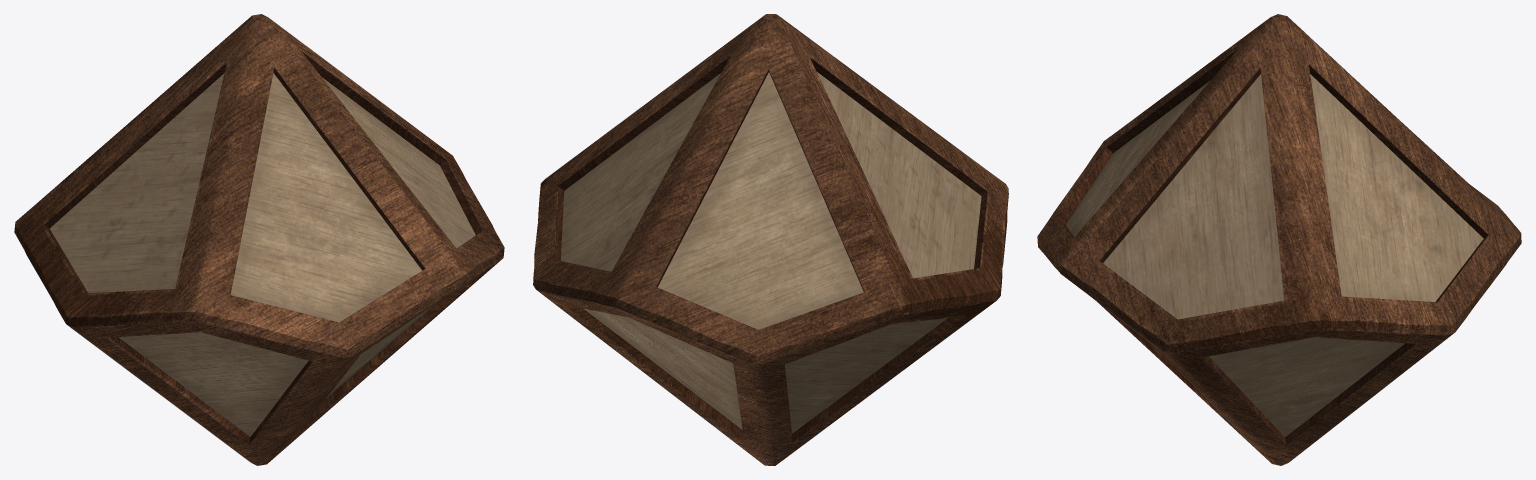
3 renders of one model, left to right at view 1: azimuth 30°, elevation 25°; view 2: azimuth 150°, elevation 25°; view 3: azimuth 270°, elevation 25°, orthographic.
Visible parts, largest first — view 1: pPlatonic7; view 2: pPlatonic7; view 3: pPlatonic7.
Boxes of the visible parts, <box> form: pPlatonic7: <box>14,14,504,465</box>; pPlatonic7: <box>533,14,1008,465</box>; pPlatonic7: <box>1037,14,1521,465</box>.
Size of the model in its own units: 0.0334 by 0.0338 by 0.0334.
Materials: 1 (1 with a texture image).
